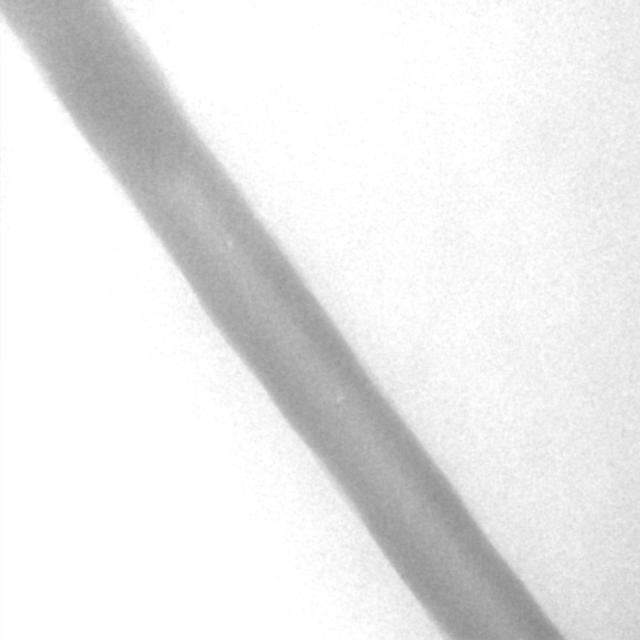air hole: (334, 390, 346, 405), (226, 236, 235, 251)
